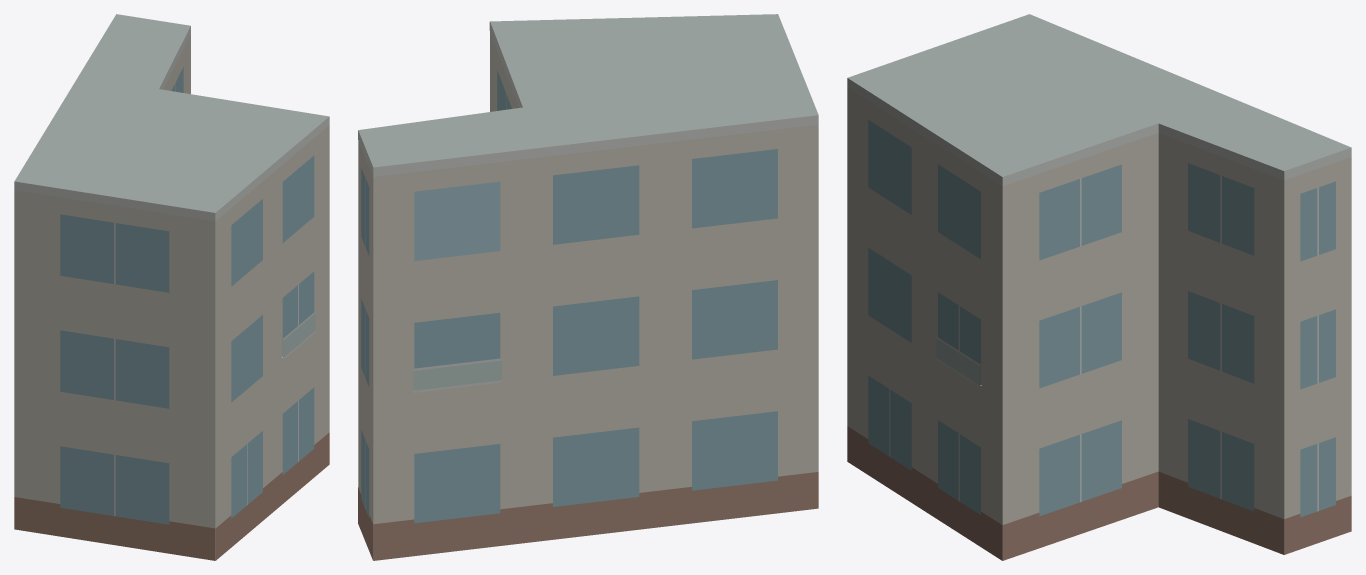
File: survey-upis-32498176.glb
The picture shows the model from 3 angles, left to right: view 1: azimuth 30°, elevation 25°; view 2: azimuth 150°, elevation 25°; view 3: azimuth 270°, elevation 25°; orthographic projection. The views are drawn at different scales.
Visible parts, largest first — view 1: survey-upis-32498176.tmp; view 2: survey-upis-32498176.tmp; view 3: survey-upis-32498176.tmp.
Boxes of the visible parts, x1,y1,x2,y2 form: survey-upis-32498176.tmp: (14,14,329,560); survey-upis-32498176.tmp: (358,14,818,560); survey-upis-32498176.tmp: (847,14,1351,560).
Size of the model in its own units: 9.22 by 10.11 by 12.05.
